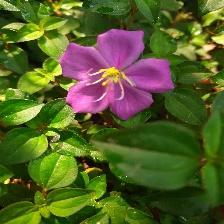malabar melastome: (56, 29, 178, 123)
